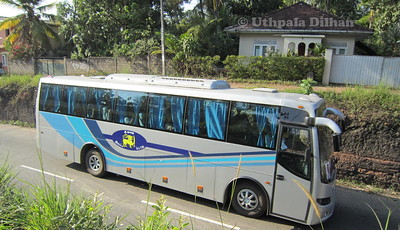bus: (35, 73, 336, 224)
